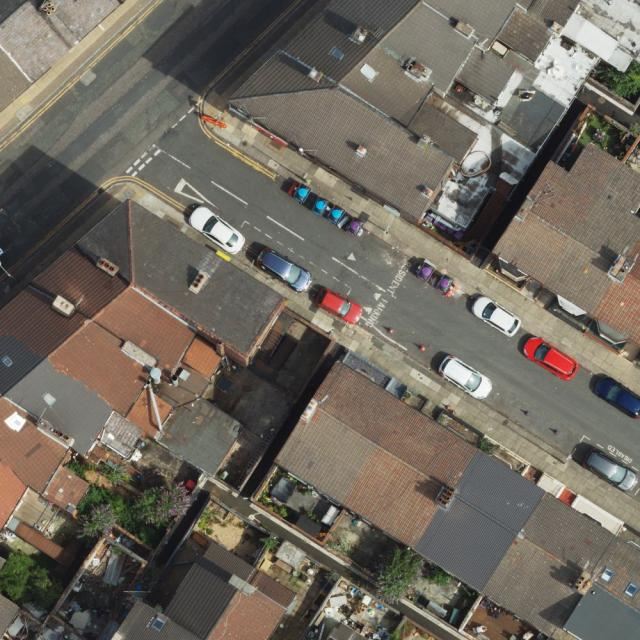roof: (274, 361, 640, 640), (0, 201, 284, 532), (228, 0, 581, 221), (493, 141, 640, 347), (109, 543, 298, 640), (0, 0, 125, 111), (0, 593, 20, 638)
skylight: (149, 614, 168, 632), (359, 63, 377, 81), (599, 565, 616, 584), (40, 392, 57, 407), (624, 581, 639, 598), (329, 47, 344, 61), (1, 355, 14, 368)
